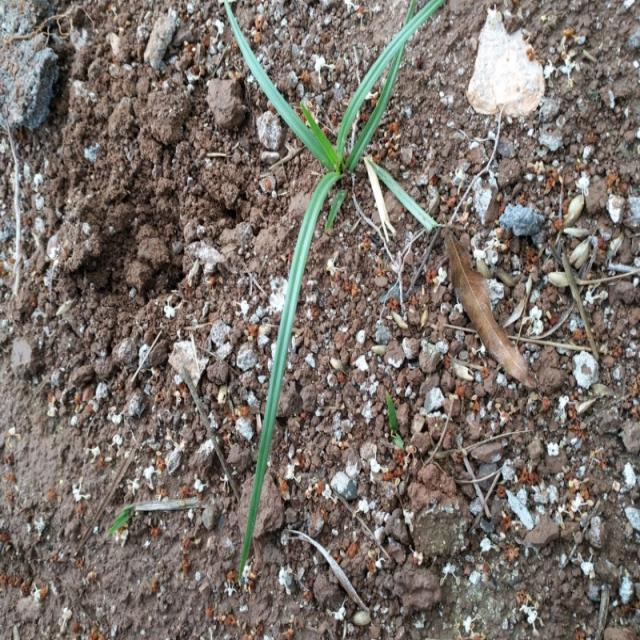sedge: (201, 27, 477, 495)
